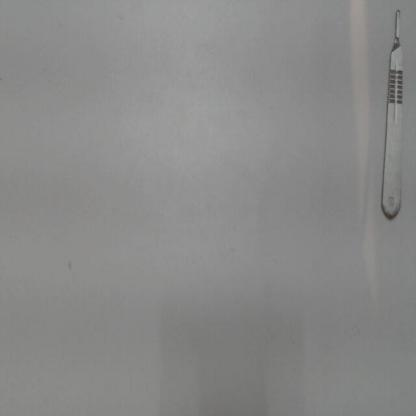No.3 BP Handle: (376, 5, 405, 224)
